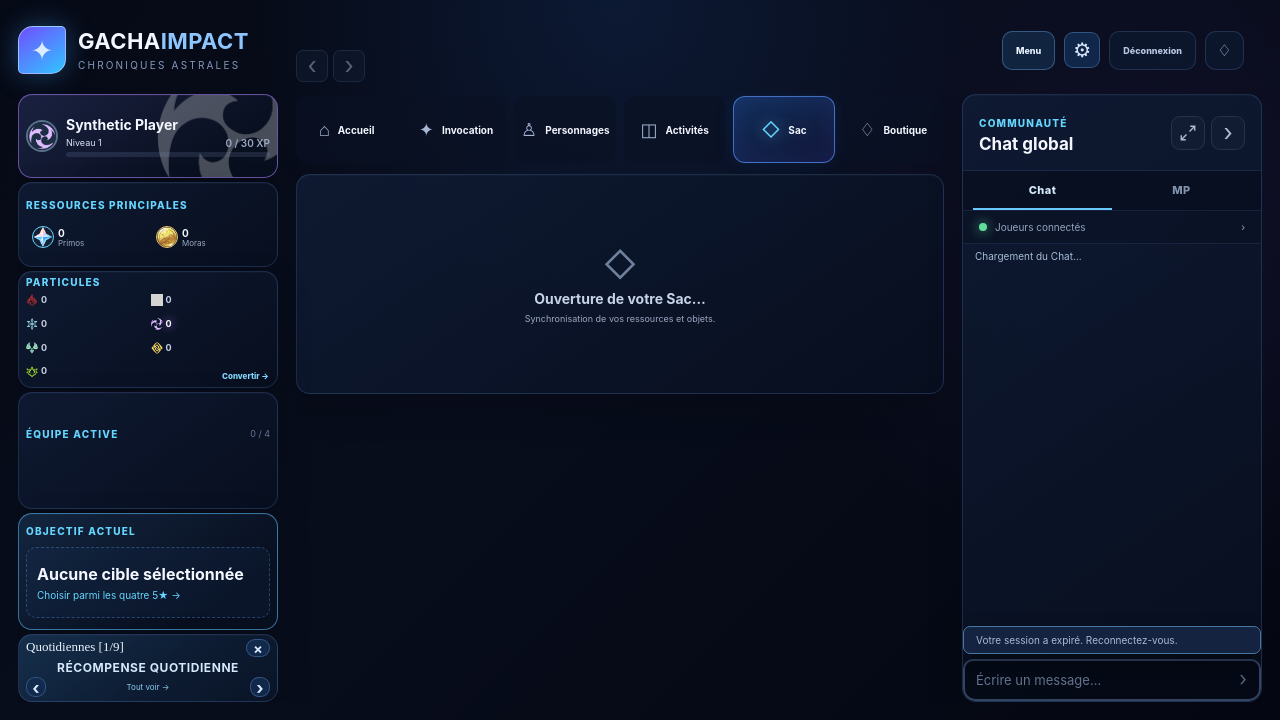
Test: keeps the Menu available with a concrete notice when a business operation is pending
The image size is (1280, 720).
Click the button "Menu": (1029, 50) [1002,30,1055,70]
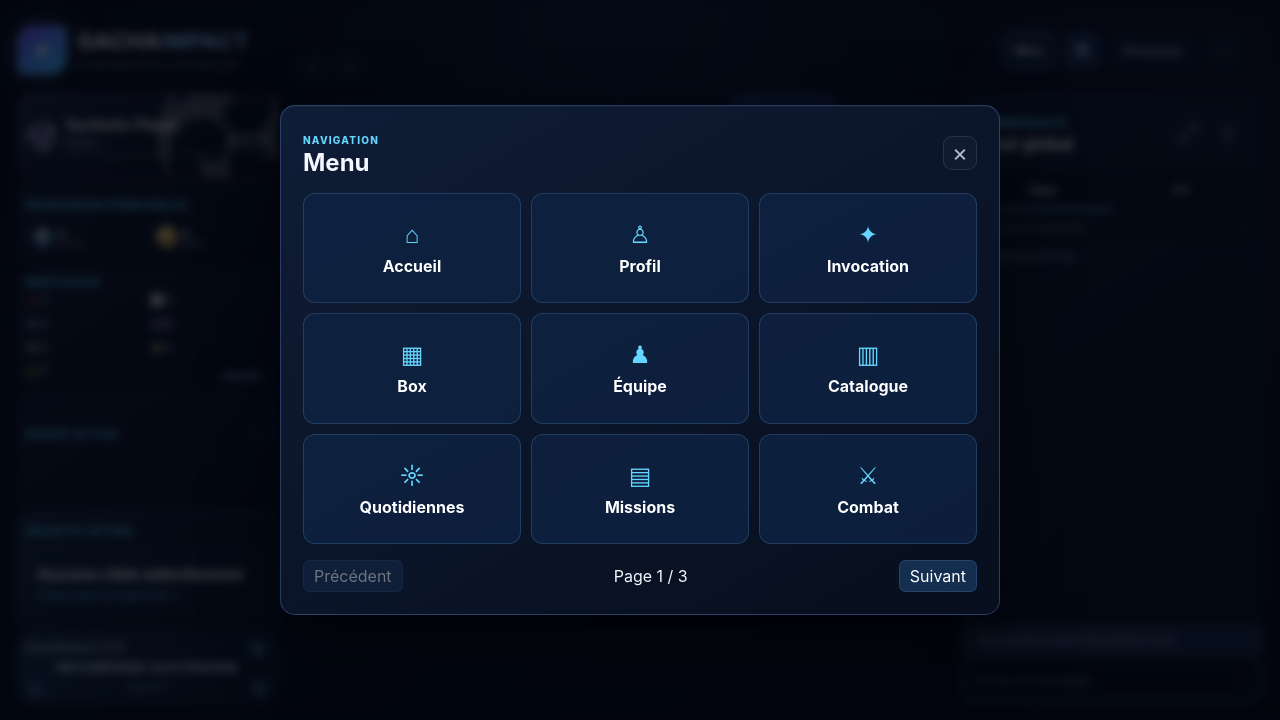
Click the button "Suivant": (938, 576) [899,560,977,592]
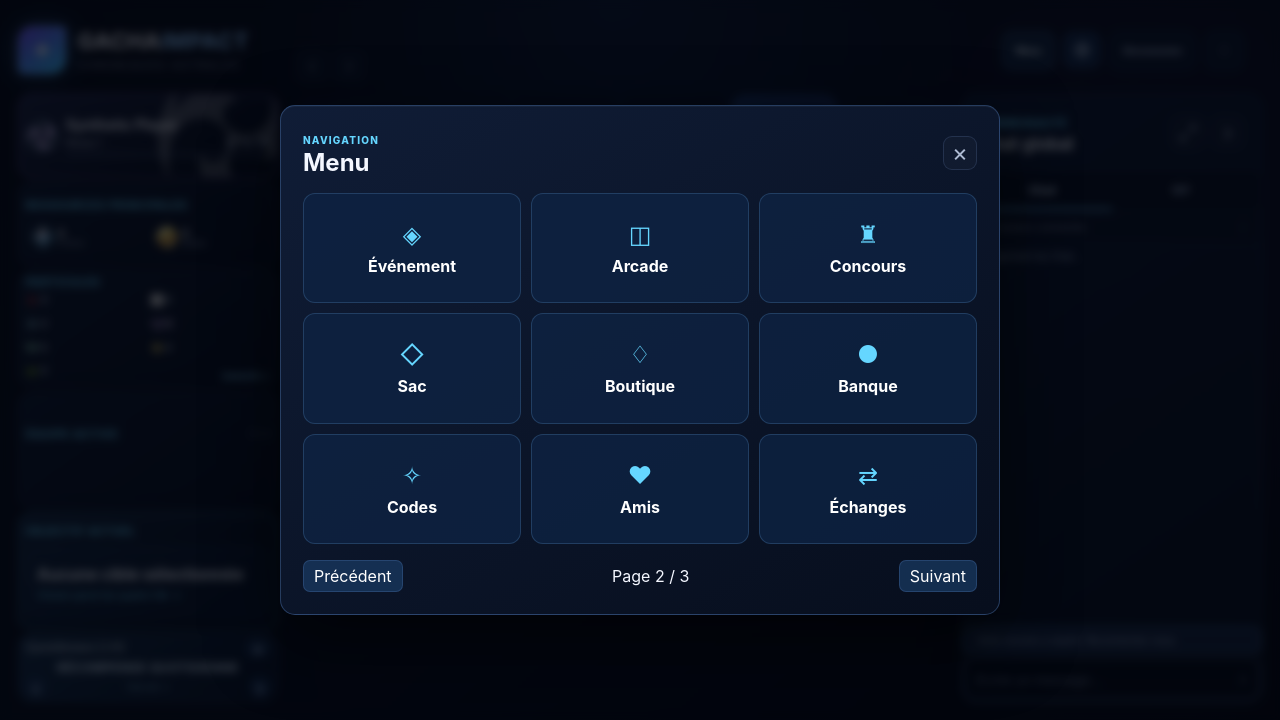
Click the button "Suivant": (938, 576) [899,560,977,592]
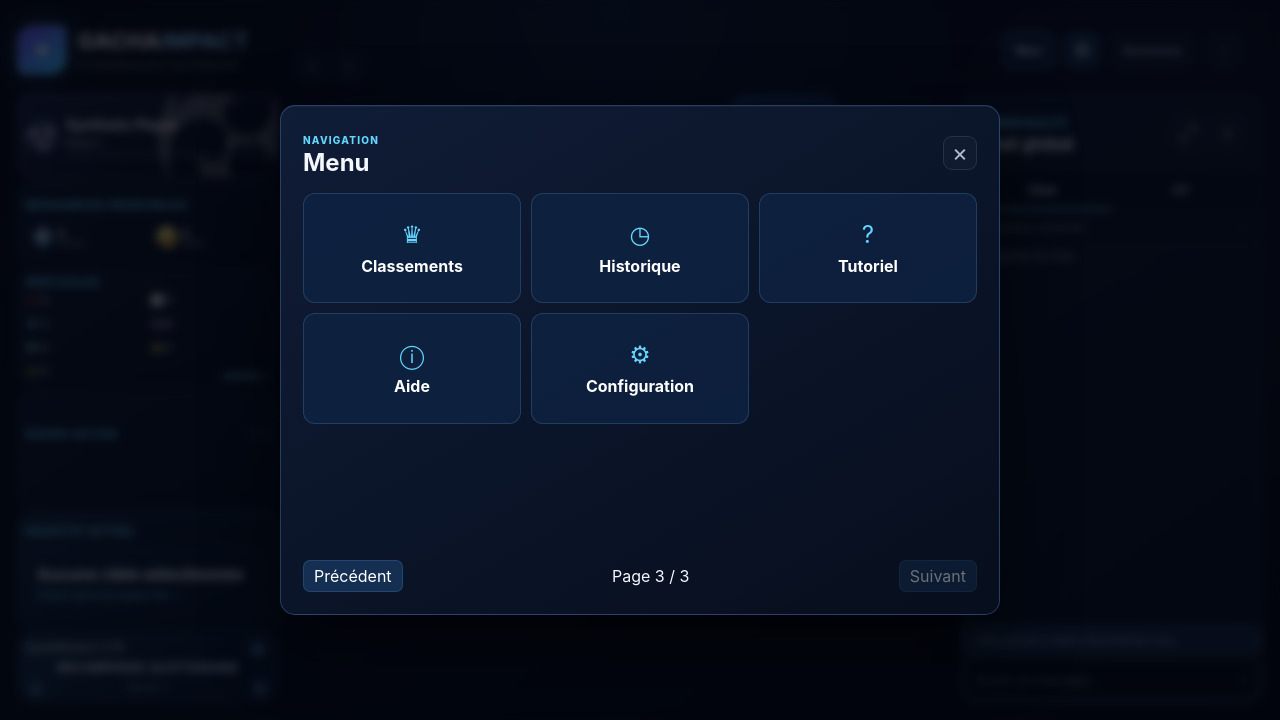
Click the button "? Tutoriel": (868, 248) [759,193,977,303]
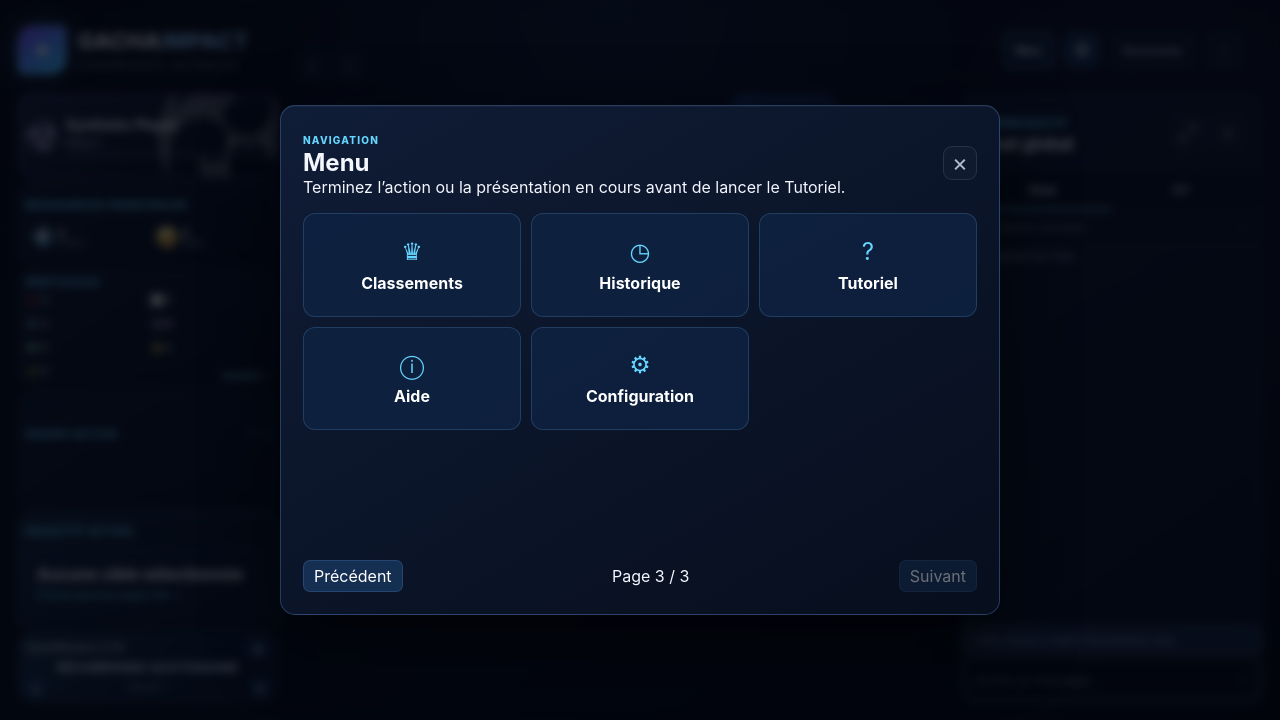
Expected: the dialog with class "global-menu" is shown, [280,105,1000,615]
Expected: the text "Terminez" is shown, [303,177,845,197]
